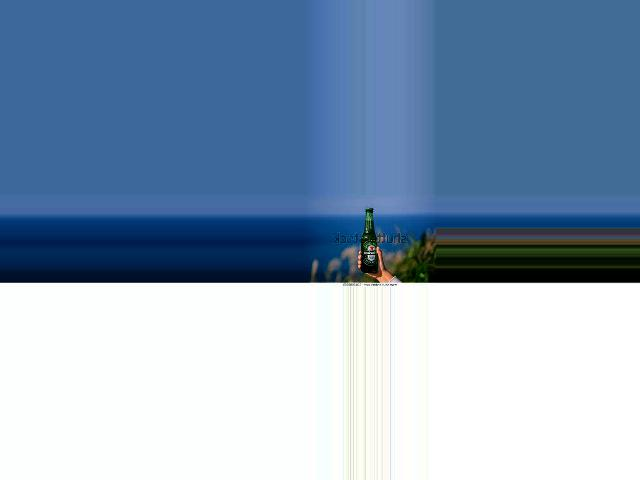beer: (361, 208, 377, 273)
